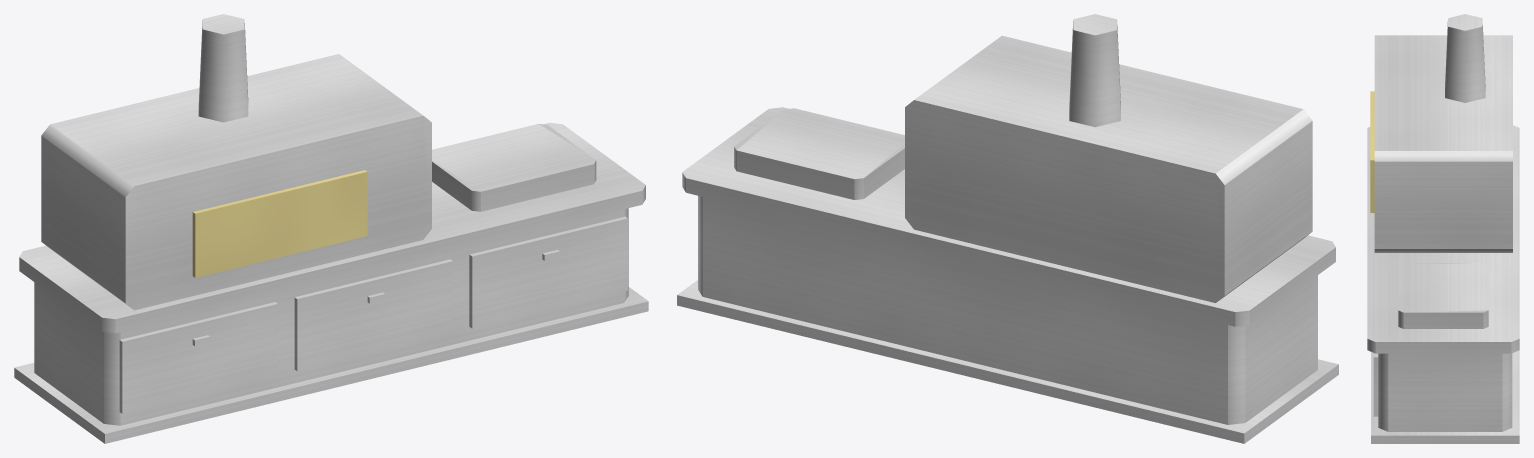
File: bench_smelter.obj
3 views of the same model, side by side, from view 1: azimuth 30°, elevation 25°; view 2: azimuth 150°, elevation 25°; view 3: azimuth 270°, elevation 25° (orthographic). The views are drawn at different scales.
Parts seen in each view (by area): view 1: furnace, cabinet, worktop, right_door, left_door, middle_door, heat_region, plinth, work_tray, chimney; view 2: furnace, cabinet, worktop, plinth, work_tray, chimney; view 3: furnace, worktop, cabinet, work_tray, chimney, plinth, heat_region, right_door.
Boxes of the visible parts, <box> form: furnace: <box>41,54,431,310</box>; cabinet: <box>34,208,628,425</box>; worktop: <box>19,123,645,333</box>; right_door: <box>469,216,627,328</box>; left_door: <box>119,302,277,413</box>; middle_door: <box>294,259,452,371</box>; heat_region: <box>192,170,367,277</box>; plinth: <box>14,287,648,443</box>; work_tray: <box>432,123,596,211</box>; chimney: <box>198,14,248,122</box>; furnace: <box>905,35,1312,302</box>; cabinet: <box>698,196,1317,424</box>; worktop: <box>682,107,1335,326</box>; plinth: <box>677,280,1338,443</box>; work_tray: <box>734,108,904,199</box>; chimney: <box>1069,14,1120,127</box>; furnace: <box>1374,35,1512,252</box>; worktop: <box>1367,125,1519,353</box>; cabinet: <box>1378,353,1512,431</box>; work_tray: <box>1398,263,1488,328</box>; chimney: <box>1445,14,1485,102</box>; plinth: <box>1371,350,1519,443</box>; heat_region: <box>1370,91,1374,212</box>; right_door: <box>1373,353,1378,416</box>.
Size of the model in its own units: 2.84 by 1.67 by 0.84.
